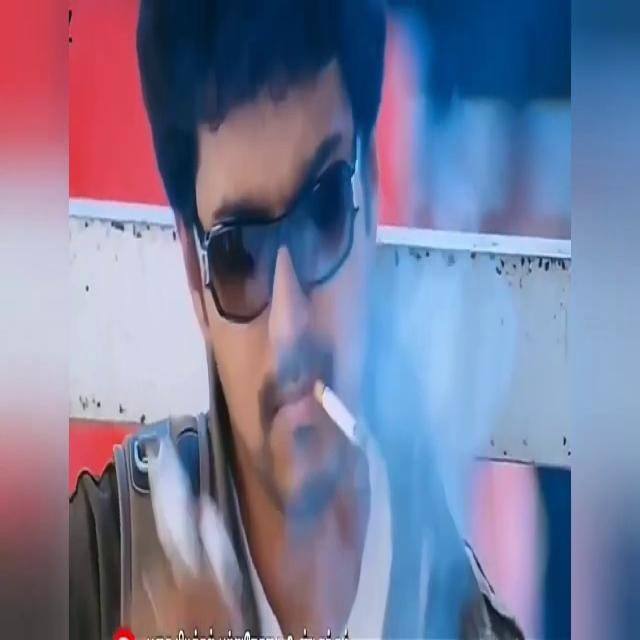smoking: (218, 246, 414, 504)
